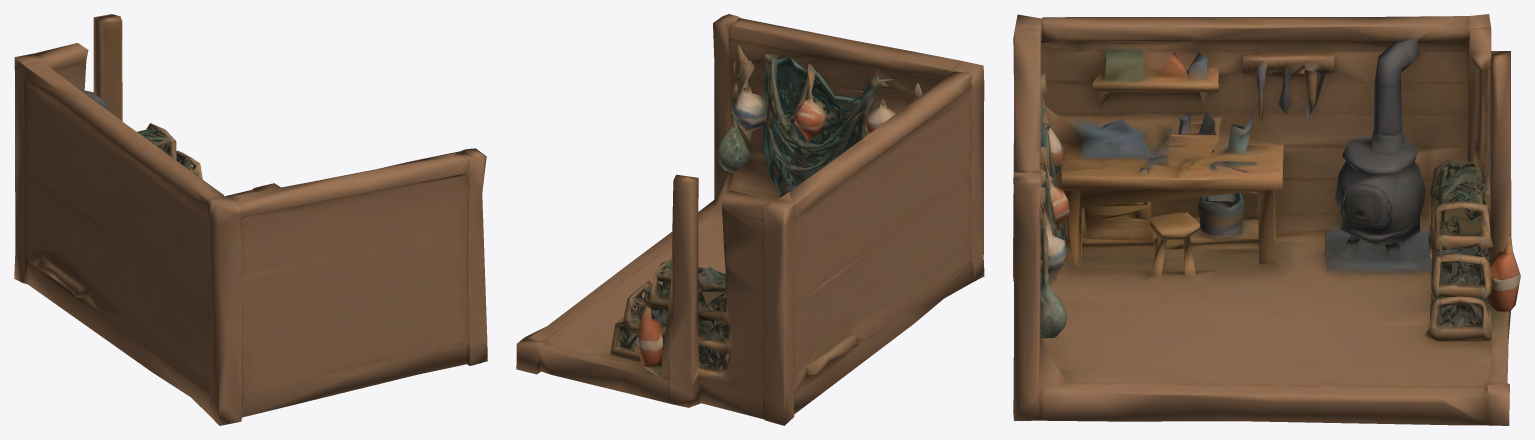
The model's file is room-hut.glb.
The picture shows the model from 3 angles, left to right: view 1: azimuth 30°, elevation 25°; view 2: azimuth 150°, elevation 25°; view 3: azimuth 270°, elevation 25°; orthographic projection. The views are drawn at different scales.
Parts seen in each view (by area): view 1: tripo_node_d2611e61-a48a-4785-8826-cc0d1045381d; view 2: tripo_node_d2611e61-a48a-4785-8826-cc0d1045381d; view 3: tripo_node_d2611e61-a48a-4785-8826-cc0d1045381d.
Boxes of the visible parts, x1,y1,x2,y2 form: tripo_node_d2611e61-a48a-4785-8826-cc0d1045381d: [14, 14, 487, 425]; tripo_node_d2611e61-a48a-4785-8826-cc0d1045381d: [516, 14, 984, 425]; tripo_node_d2611e61-a48a-4785-8826-cc0d1045381d: [1013, 14, 1520, 425].
Size of the model in its own units: 0.7259 by 0.595 by 1.
1 material, 1 textured.
